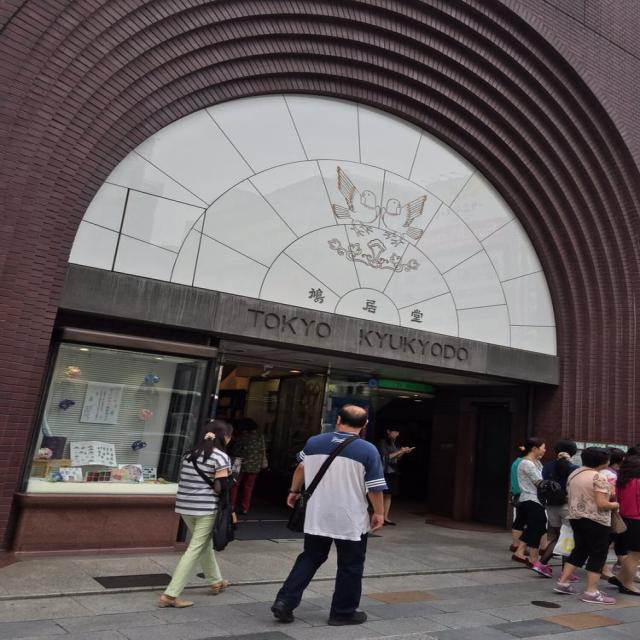body: (265, 400, 390, 629), (150, 416, 243, 611), (550, 445, 621, 606), (531, 438, 582, 586), (509, 439, 548, 570), (511, 440, 549, 559), (374, 425, 417, 527), (609, 457, 640, 596), (228, 417, 269, 519), (598, 446, 626, 503), (624, 443, 640, 453)
